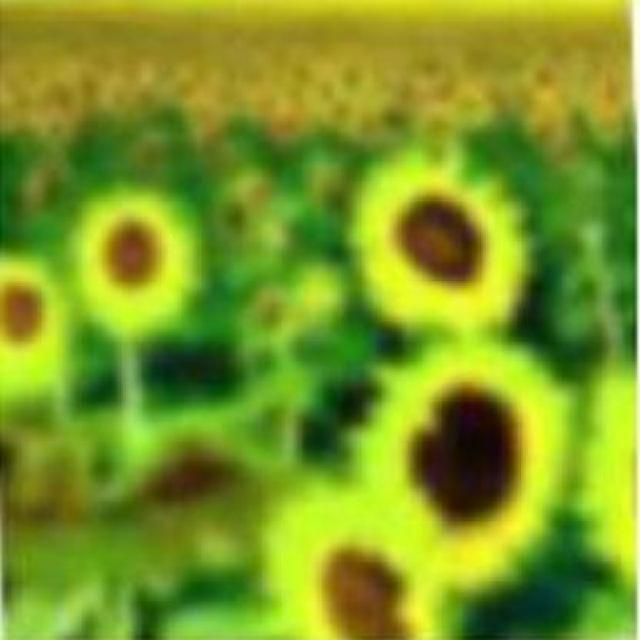sunflower: (348, 347, 575, 587), (348, 152, 532, 337), (81, 193, 193, 327)
